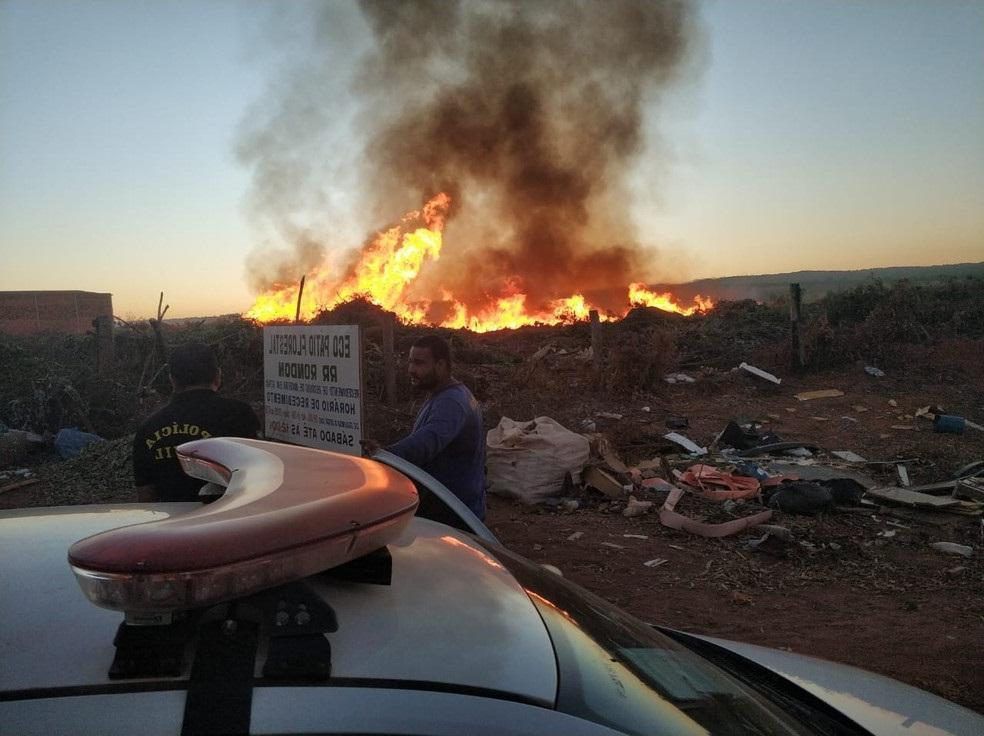Fire: (240, 206, 452, 333), (445, 286, 720, 336)
